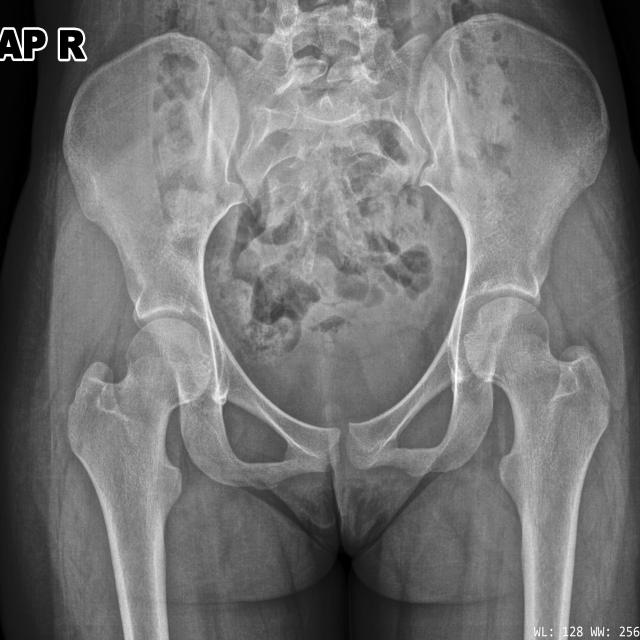normal-left: (465, 297, 610, 640)
normal-right: (68, 319, 212, 640)
